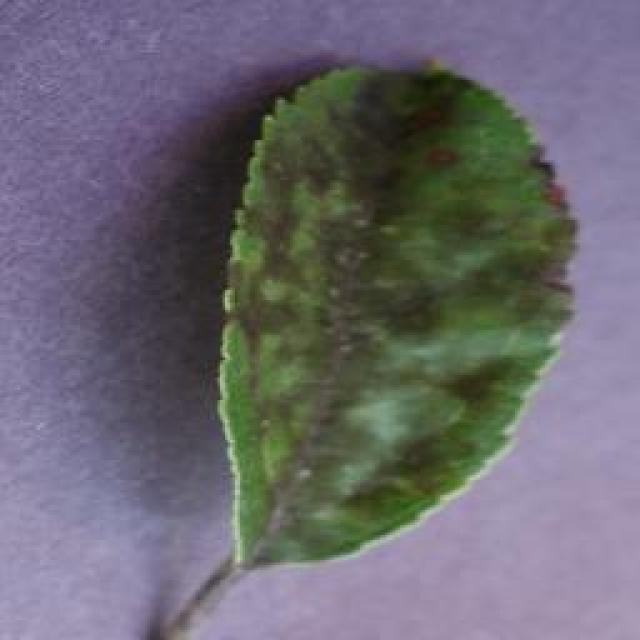apple scab disease: (212, 55, 580, 570)
